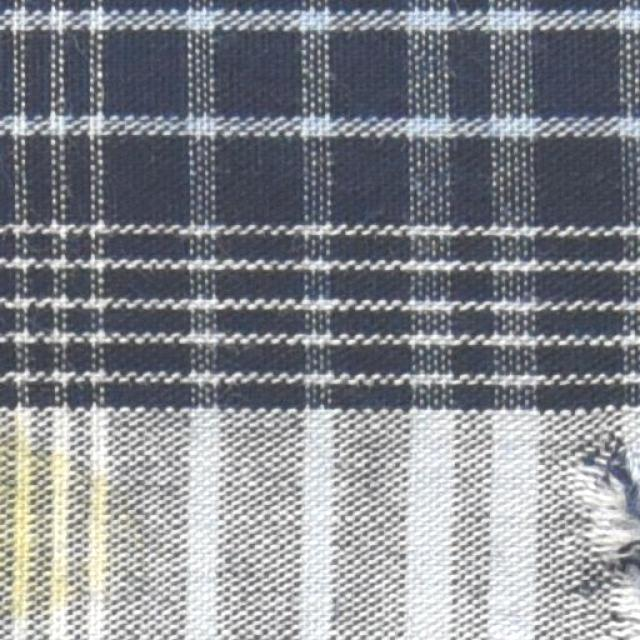Snag: (583, 445, 639, 604)
Stain: (0, 405, 100, 614)
